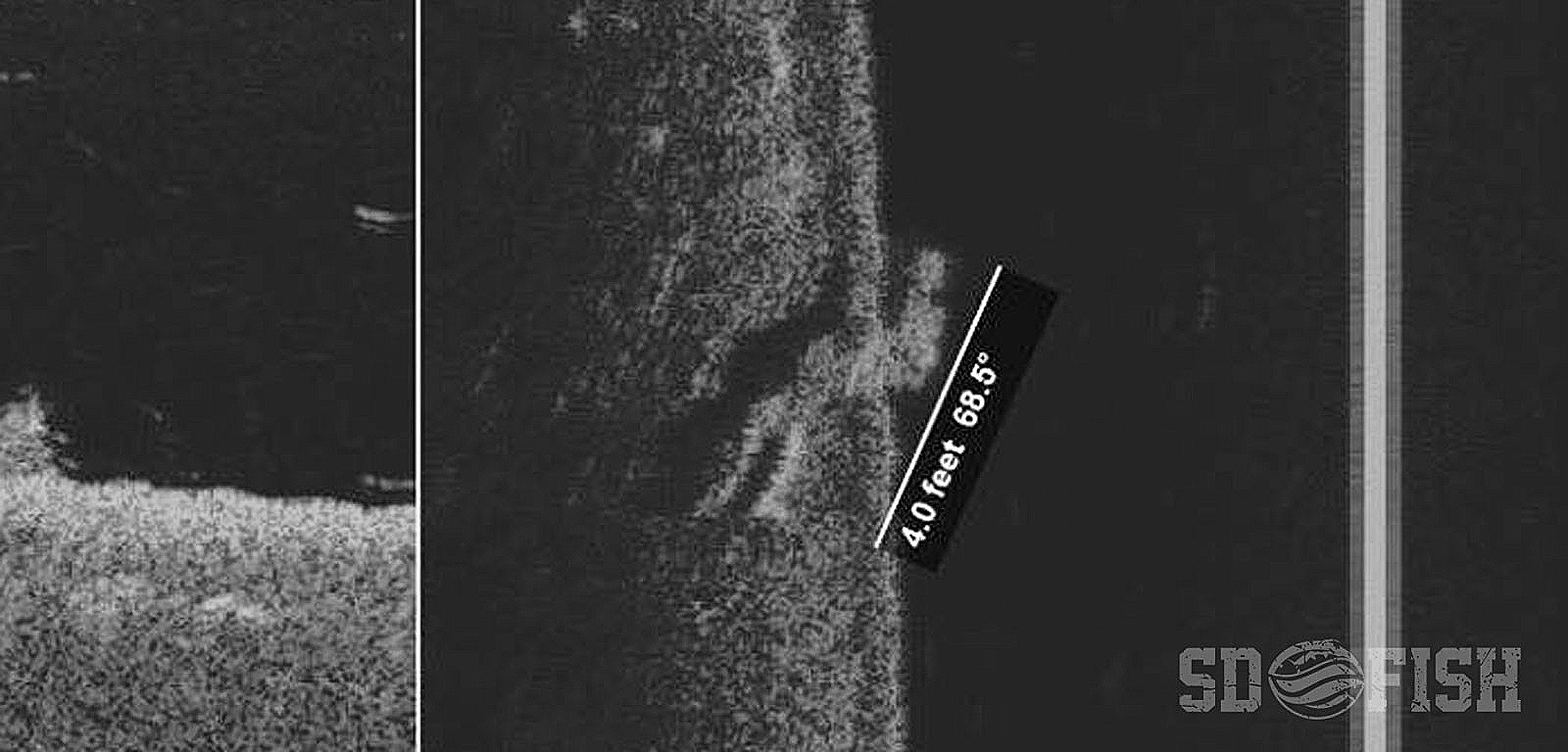man: (691, 242, 951, 524)
